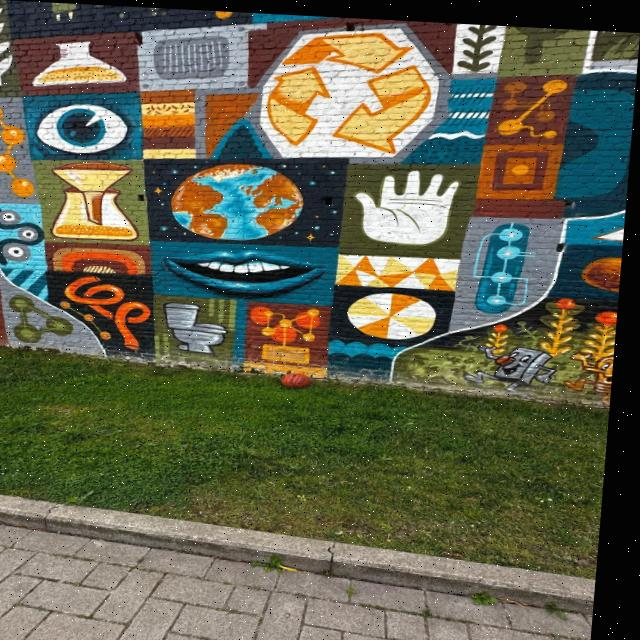Basketball: (280, 371, 310, 387)
